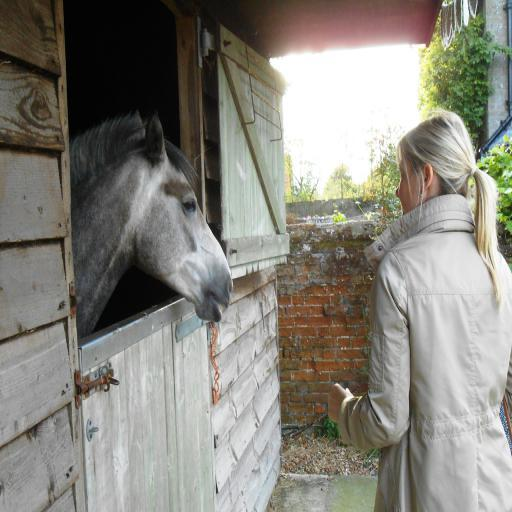horse: (67, 107, 232, 338)
